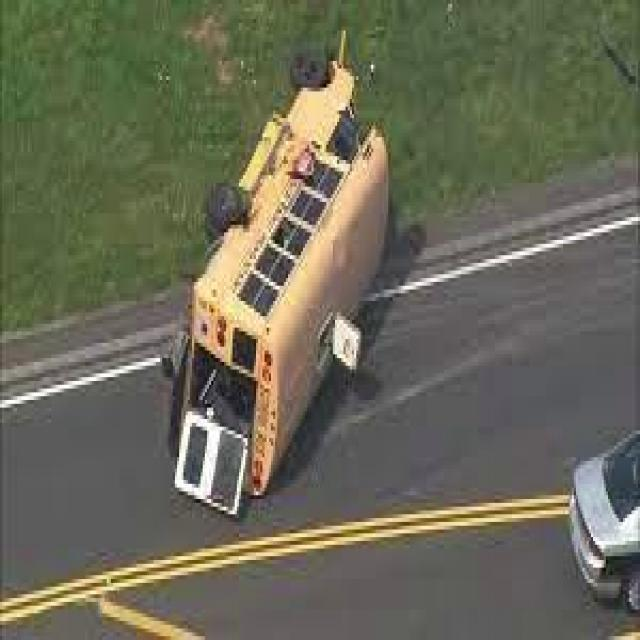severe: (156, 14, 394, 512)
